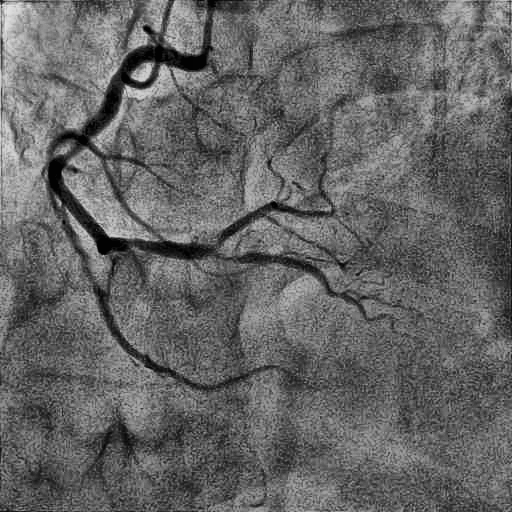pborca: (213, 178, 336, 249)
pda: (210, 250, 400, 334)
rca: (48, 45, 211, 259)
